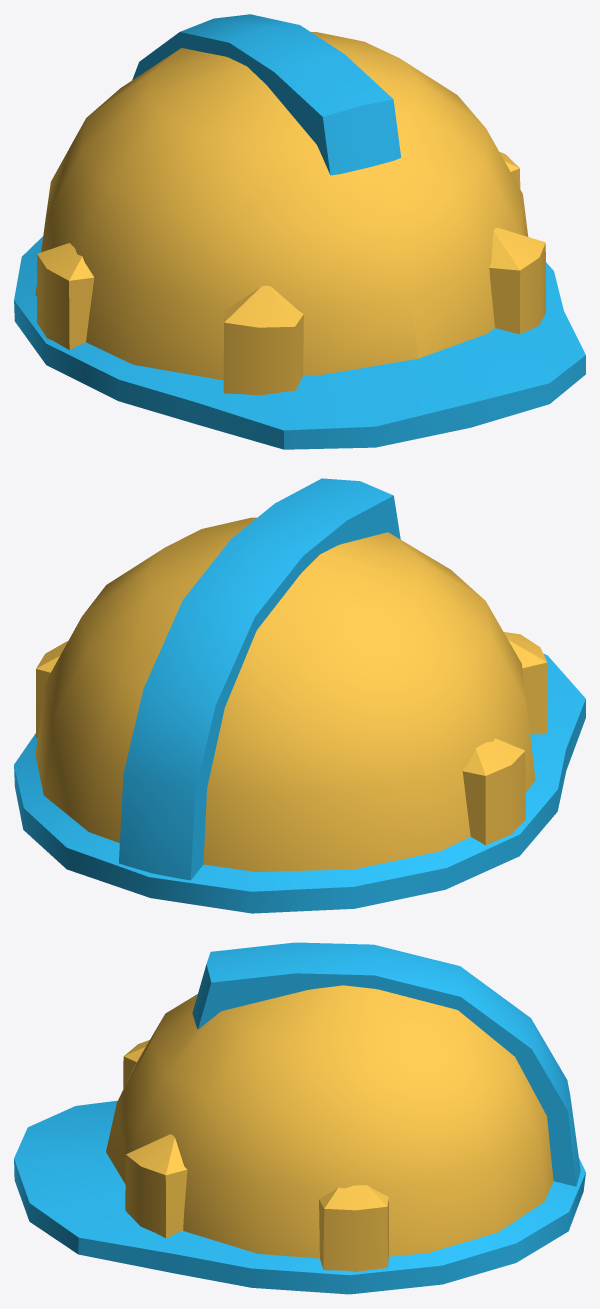
The model's file is roblox_bc_hard_hat.glb.
3 views of the same model, one above another, from view 1: azimuth 30°, elevation 25°; view 2: azimuth 150°, elevation 25°; view 3: azimuth 270°, elevation 25° (orthographic). The views are drawn at different scales.
Visible parts, largest first — view 1: Object_2; view 2: Object_2; view 3: Object_2.
Boxes of the visible parts, left/top/right/bottom form: Object_2: left=14, top=14, right=585, bottom=449; Object_2: left=14, top=478, right=585, bottom=913; Object_2: left=14, top=942, right=585, bottom=1294.
Bounding box in the file's own units: 0.3939 × 0.2149 × 0.4668.
Materials: 1 (1 with a texture image).
